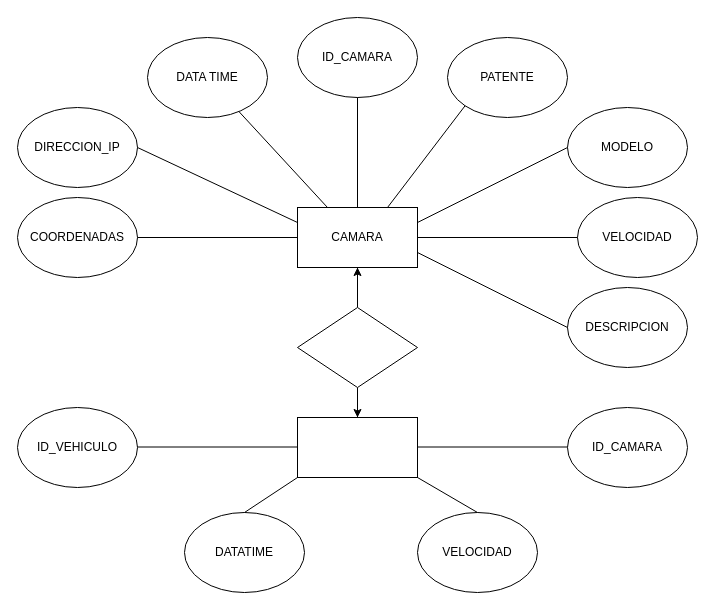
This 715x610 diagram has some shape labels left out. Here are the shapes that lost their labels. From the top down, the centre of each, then its label:
[357,347]: REGISTRA
[357,447]: REGISTRO
